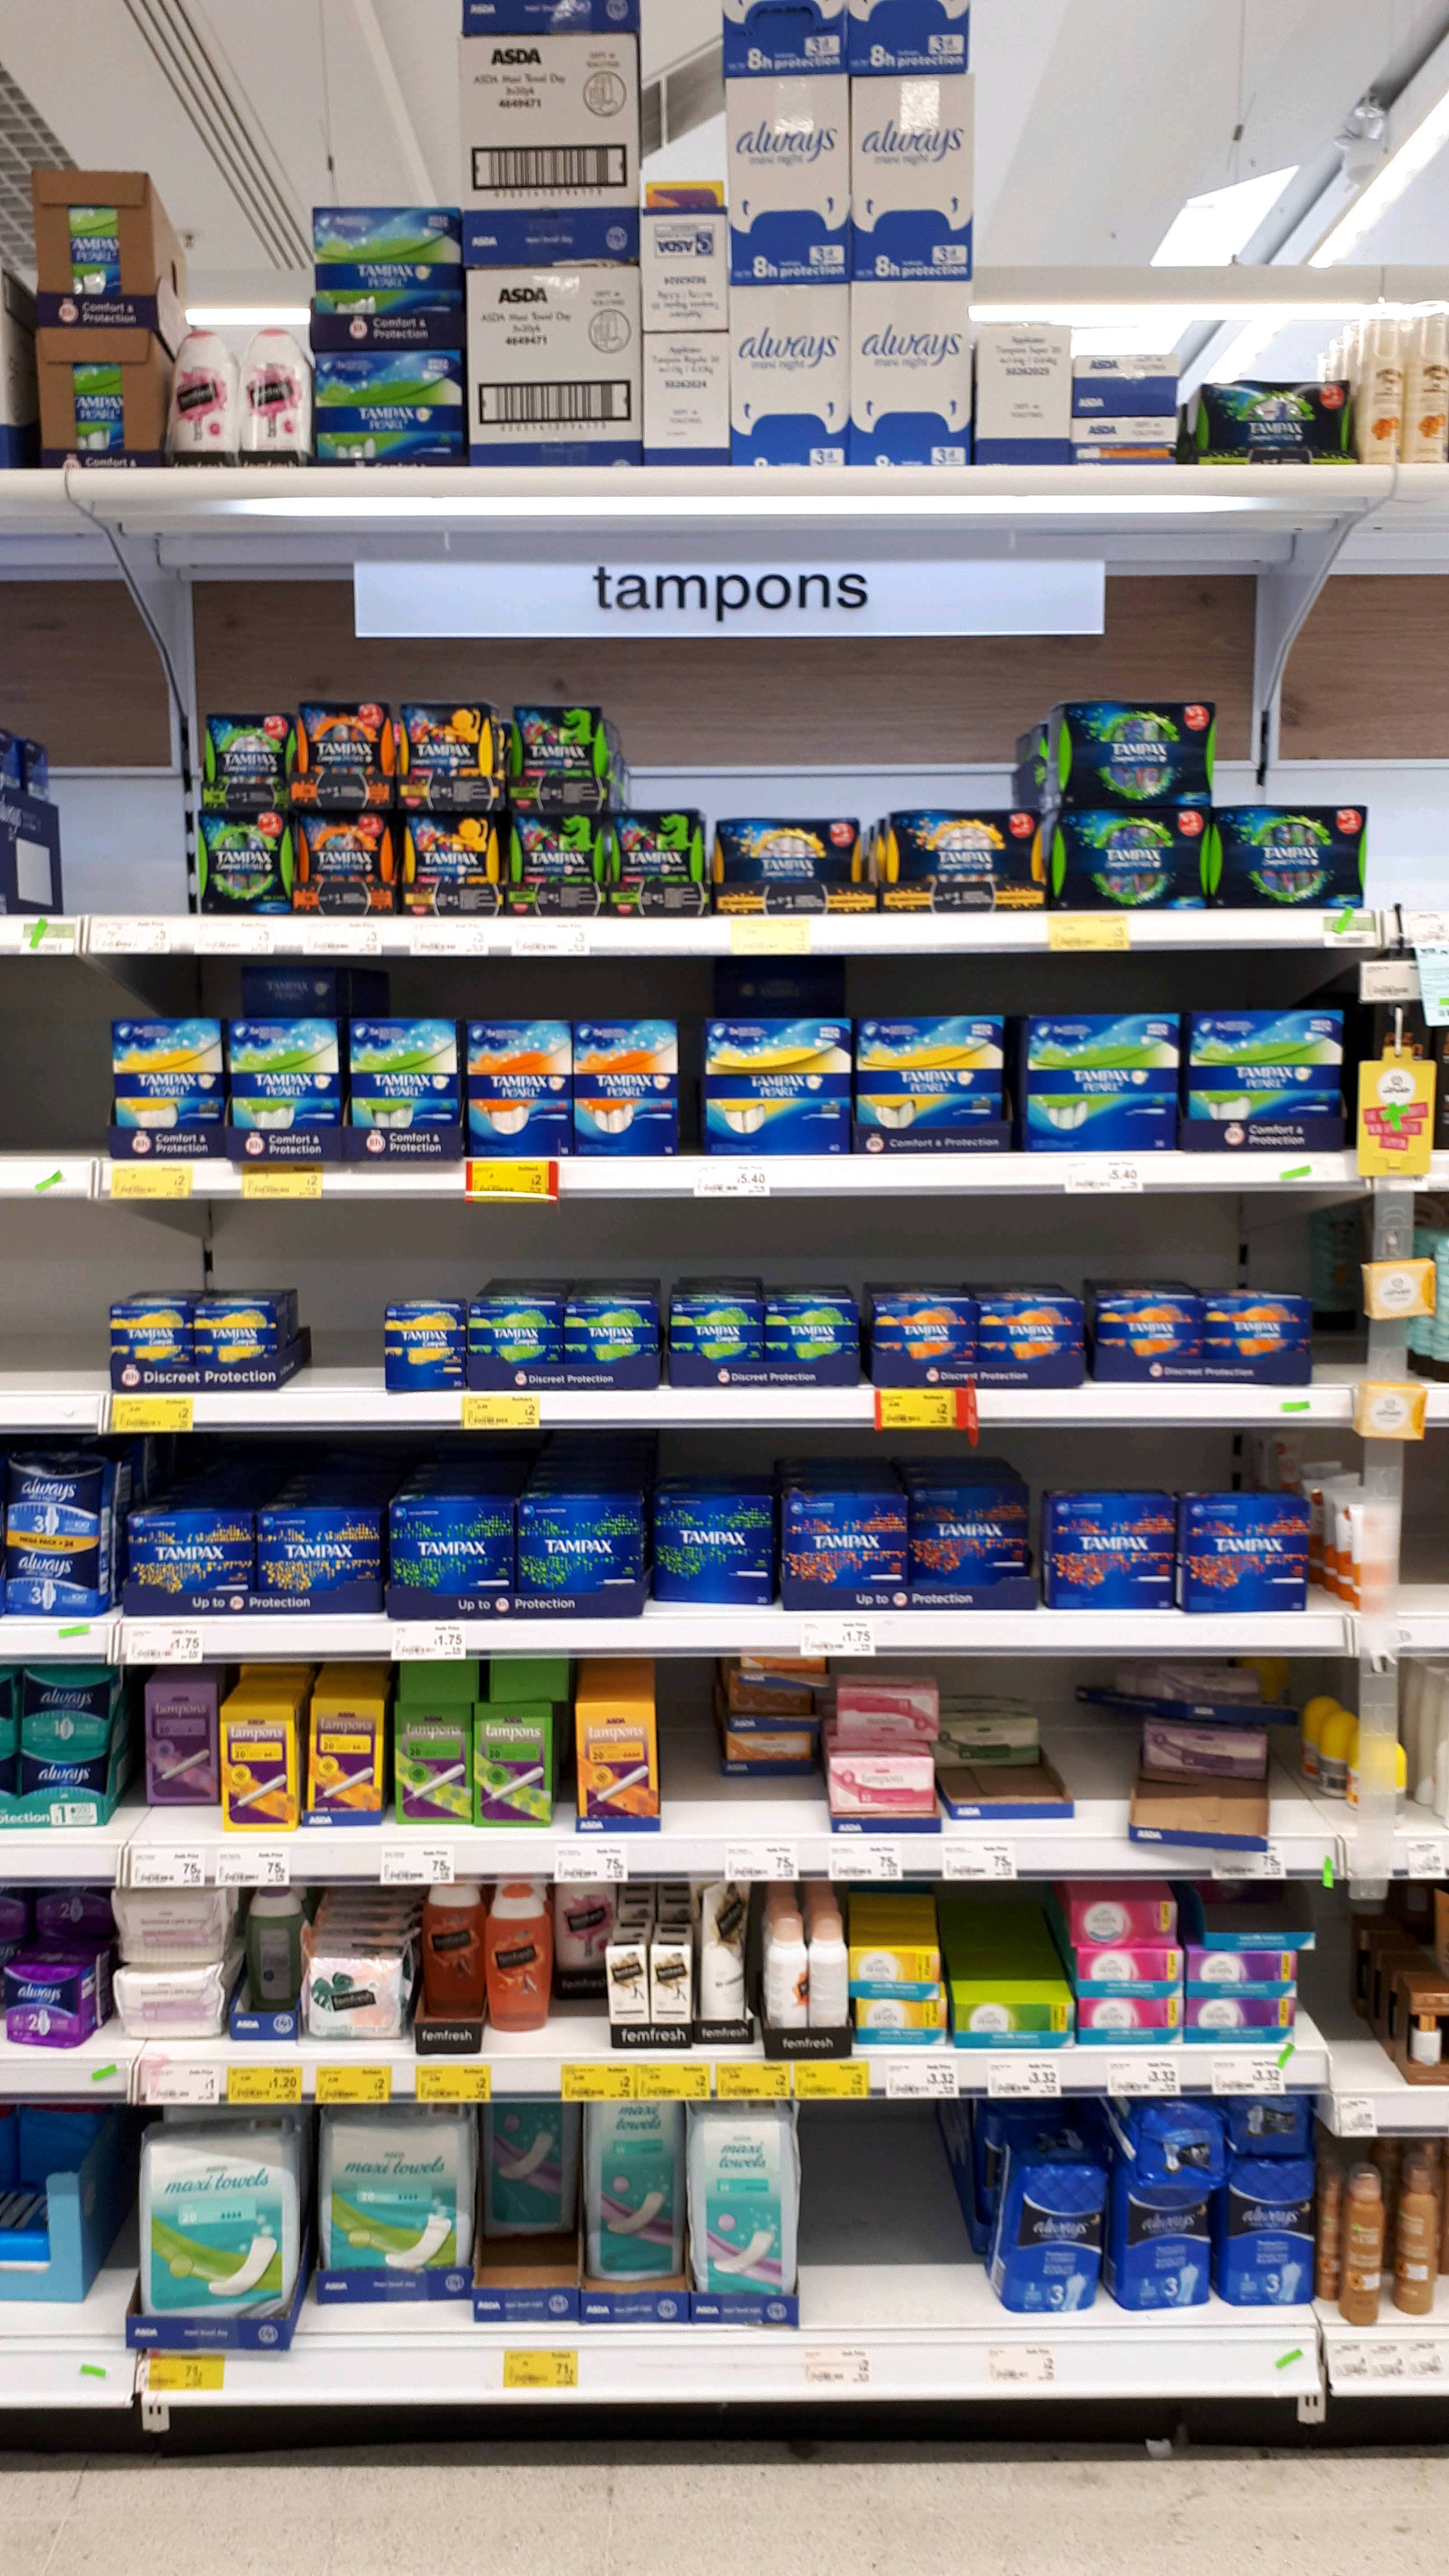Misplacement: (136, 1663, 223, 1842)
Out-of-stock: (801, 2112, 989, 2332)
